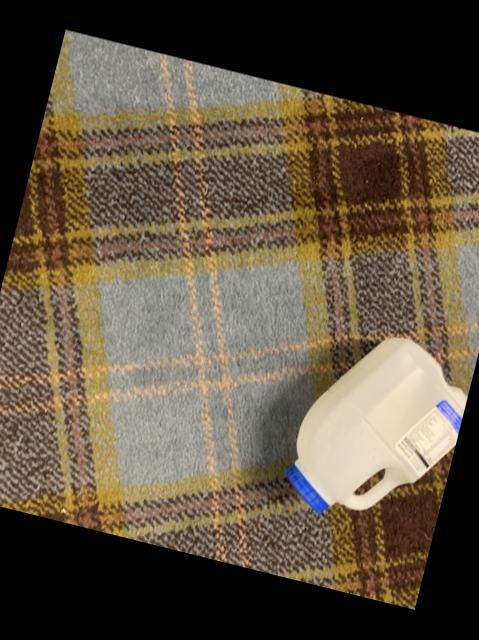plastic: (286, 339, 467, 514)
